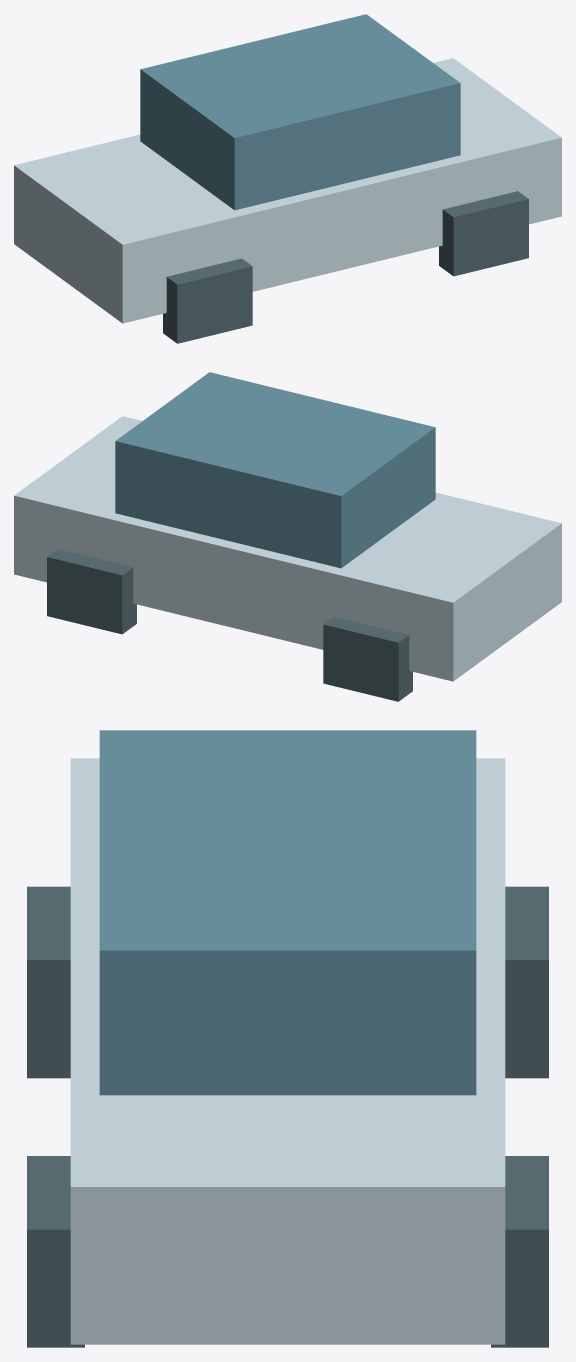
Rendered from car.glb.
3 renders of one model, top to bottom at view 1: azimuth 30°, elevation 25°; view 2: azimuth 150°, elevation 25°; view 3: azimuth 270°, elevation 25°, orthographic. The views are drawn at different scales.
Parts seen in each view (by area): view 1: body, cab, wheel-2, wheel-3; view 2: body, cab, wheel-0, wheel-1; view 3: cab, body, wheel-1, wheel-3, wheel-0, wheel-2.
Boxes of the visible parts, bbox=[...] form: body: bbox=[14, 58, 561, 323]; cab: bbox=[140, 14, 460, 210]; wheel-2: bbox=[163, 258, 252, 343]; wheel-3: bbox=[439, 191, 528, 276]; body: bbox=[14, 416, 561, 681]; cab: bbox=[115, 372, 435, 568]; wheel-0: bbox=[323, 616, 412, 701]; wheel-1: bbox=[47, 549, 136, 634]; cab: bbox=[99, 730, 476, 1095]; body: bbox=[70, 758, 505, 1344]; wheel-1: bbox=[491, 1156, 548, 1347]; wheel-3: bbox=[27, 1156, 84, 1347]; wheel-0: bbox=[505, 886, 548, 1078]; wheel-2: bbox=[27, 886, 70, 1078].
Size of the model in its own units: 3.5 by 1.32 by 1.8.
